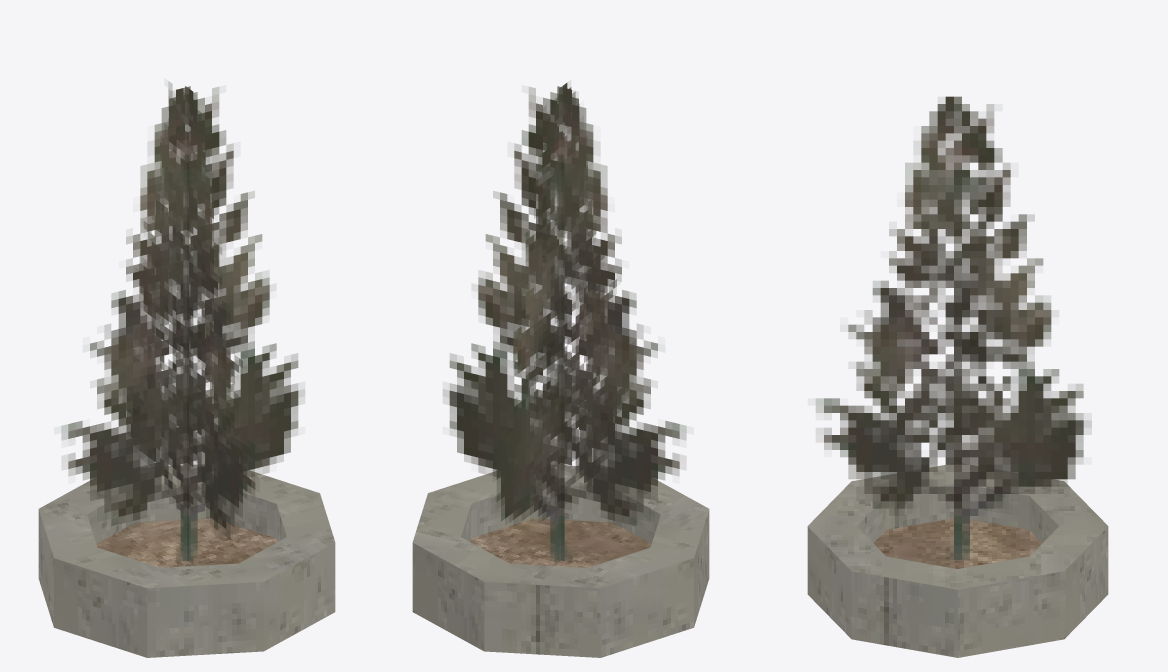
File: tree-park-pine-large.glb
The picture shows the model from 3 angles, left to right: view 1: azimuth 30°, elevation 25°; view 2: azimuth 150°, elevation 25°; view 3: azimuth 270°, elevation 25°; orthographic projection. The views are drawn at different scales.
Parts seen in each view (by area): view 1: tree-park-pine-large; view 2: tree-park-pine-large; view 3: tree-park-pine-large.
Part boxes in pixels (x1,y1,x2,y2): tree-park-pine-large: [38, 81, 335, 657]; tree-park-pine-large: [412, 82, 709, 657]; tree-park-pine-large: [807, 96, 1108, 657].
Size of the model in its own units: 1.04 by 1.46 by 1.04.
3 materials, 3 textured.
